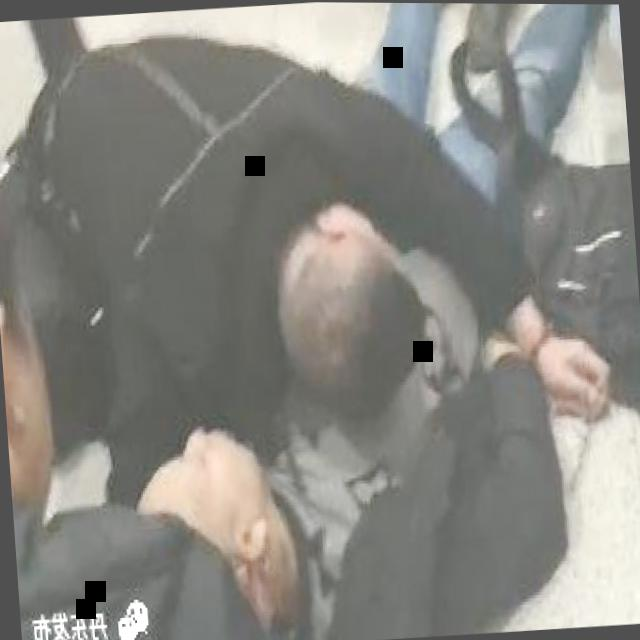Fall-Detected: (36, 0, 628, 640)
